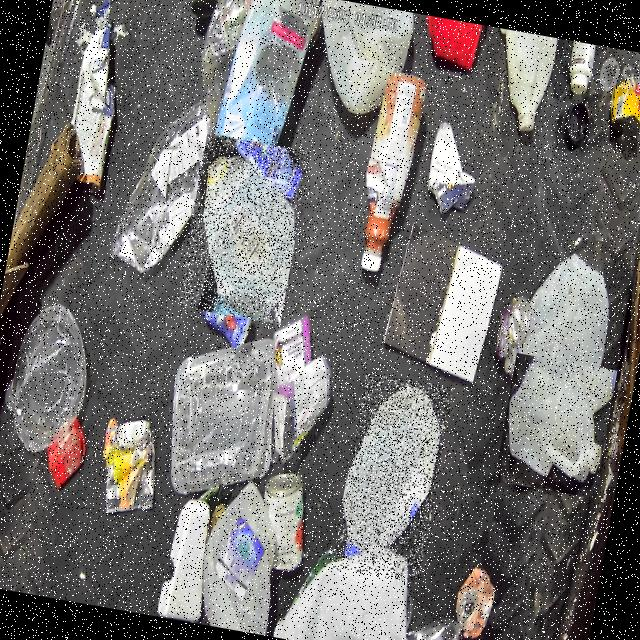milk-jug: (175, 131, 310, 323), (330, 371, 452, 583), (493, 352, 616, 498)
